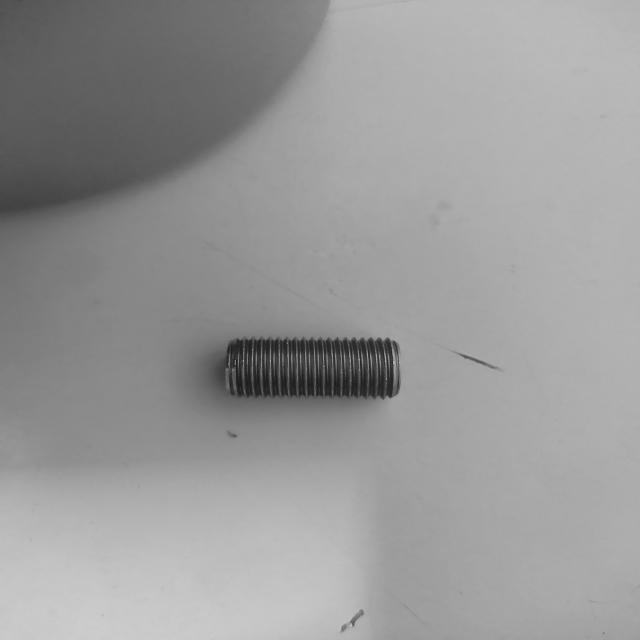Normal: (224, 336, 402, 400)
